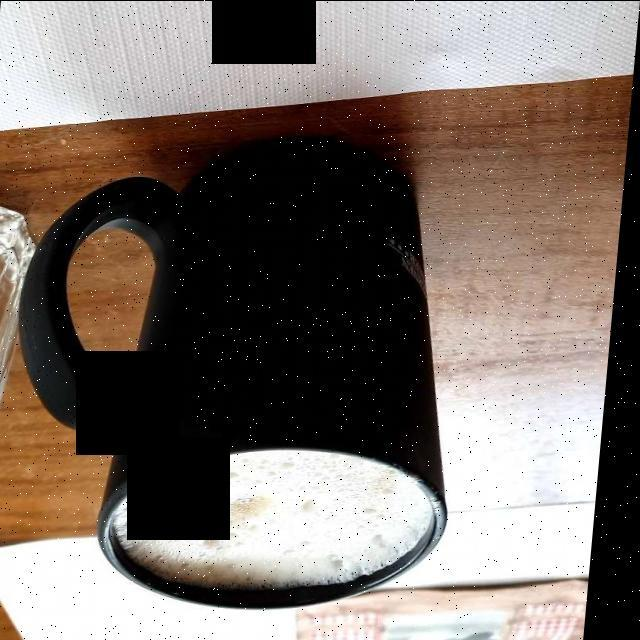cappuccino: (135, 454, 434, 585)
